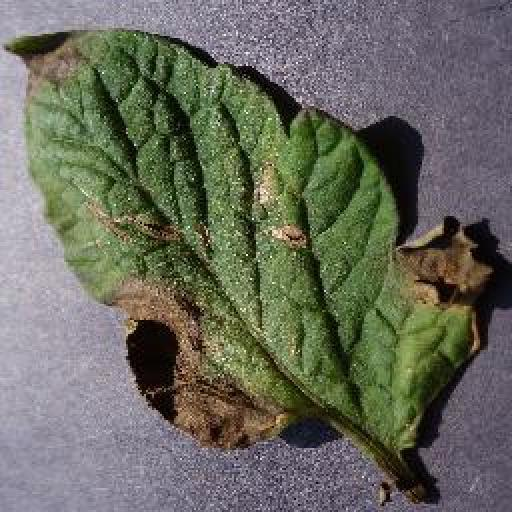Late Blight: (5, 20, 495, 453)
